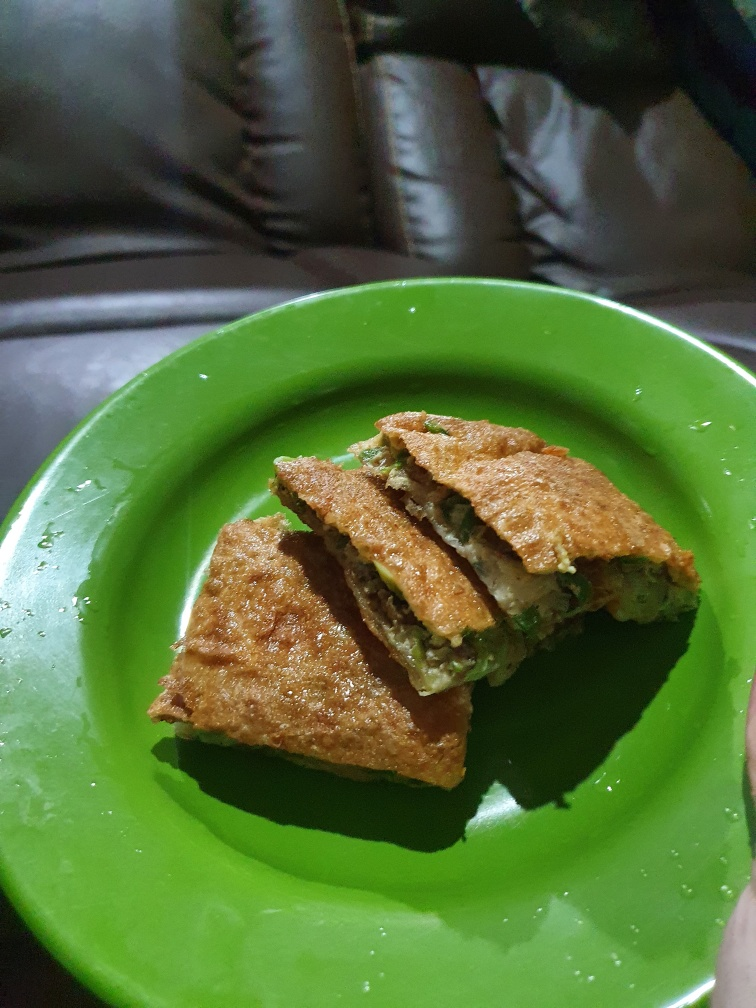martabak telor: (365, 370, 714, 633), (165, 516, 490, 796), (280, 421, 640, 670)
